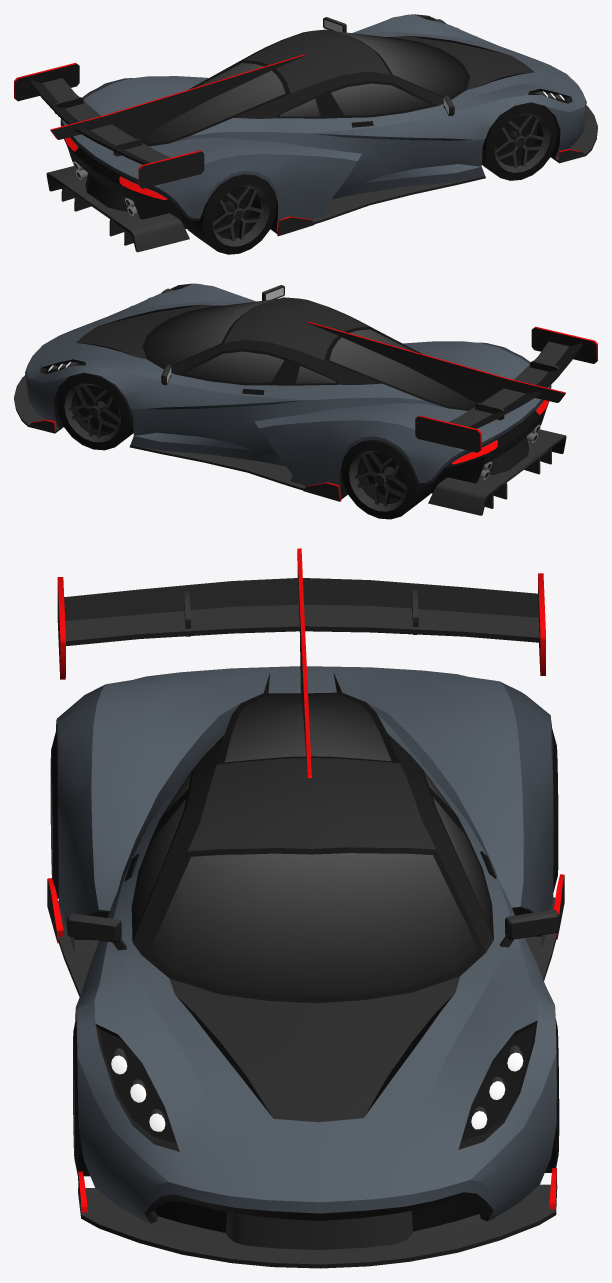
The model's file is RaceCar_017.glb.
The picture shows the model from 3 angles, top to bottom: view 1: azimuth 30°, elevation 25°; view 2: azimuth 150°, elevation 25°; view 3: azimuth 270°, elevation 25°; orthographic projection. The views are drawn at different scales.
Parts seen in each view (by area): view 1: RaceCar_017, wheel_2_RaceCar_017_Wheel_2R, wheel_1_RaceCar_017_Wheel_1R; view 2: RaceCar_017, wheel_3_RaceCar_017_Wheel_3L, wheel_0_RaceCar_017_Wheel_1L; view 3: RaceCar_017, wheel_2_RaceCar_017_Wheel_2R, wheel_1_RaceCar_017_Wheel_1R.
Boxes of the visible parts, bbox=[...] form: RaceCar_017: bbox=[14, 14, 597, 252]; wheel_2_RaceCar_017_Wheel_2R: bbox=[181, 174, 276, 254]; wheel_1_RaceCar_017_Wheel_1R: bbox=[482, 102, 557, 180]; RaceCar_017: bbox=[14, 283, 597, 515]; wheel_3_RaceCar_017_Wheel_3L: bbox=[341, 439, 436, 519]; wheel_0_RaceCar_017_Wheel_1L: bbox=[57, 372, 133, 450]; RaceCar_017: bbox=[47, 548, 564, 1268]; wheel_2_RaceCar_017_Wheel_2R: bbox=[50, 731, 58, 898]; wheel_1_RaceCar_017_Wheel_1R: bbox=[73, 1016, 89, 1176].
Bounding box in the file's own units: 5.47 × 1.2 × 2.32.
2 materials, 2 textured.
